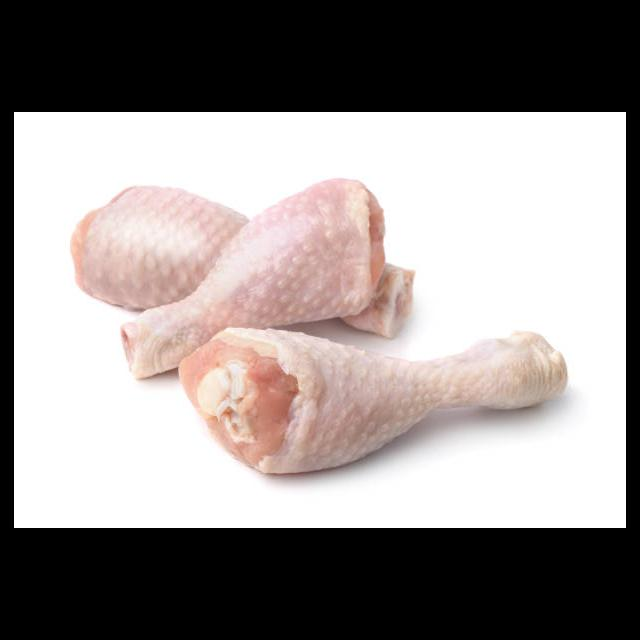chicken: (71, 177, 415, 377), (179, 325, 567, 472)
